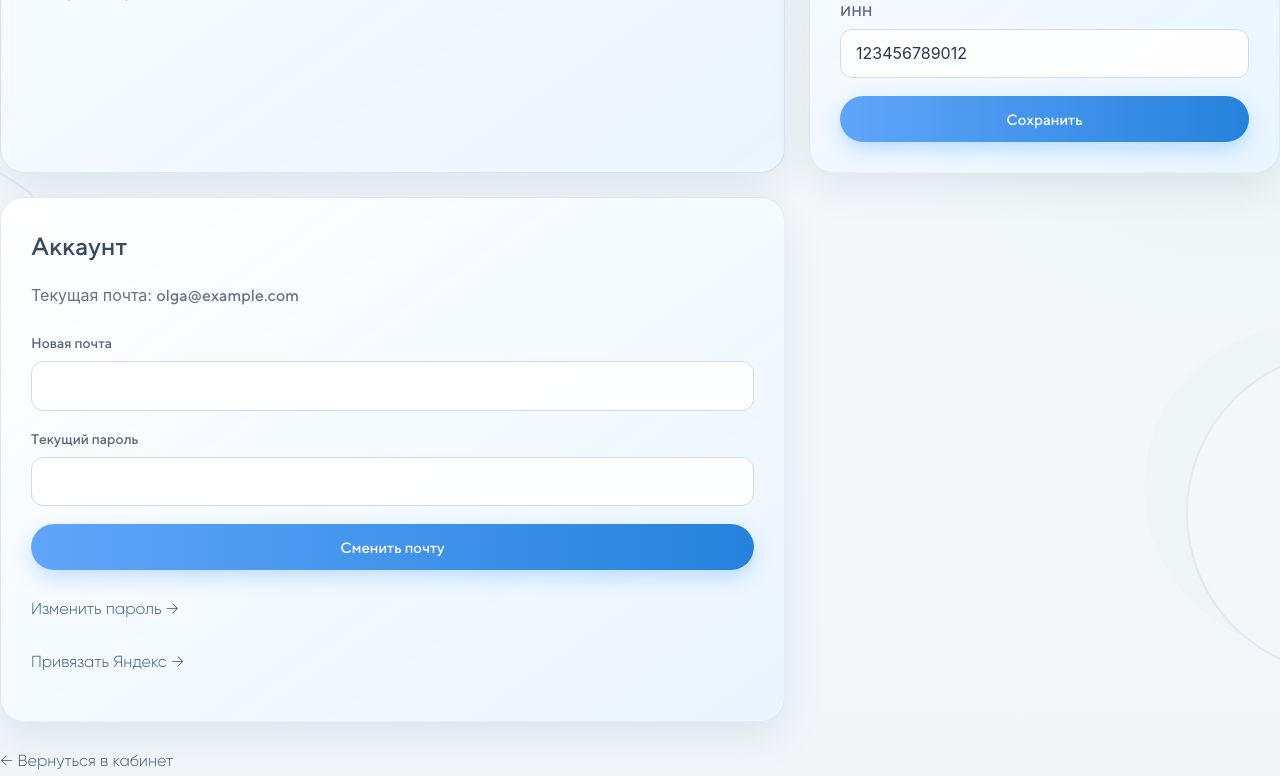
it: ProfilePage › shows why the e-mail change was refused
(page scrolled)
In the field labelled "Новая почта": (392, 386) [31,361,754,411], type "new@example.com"
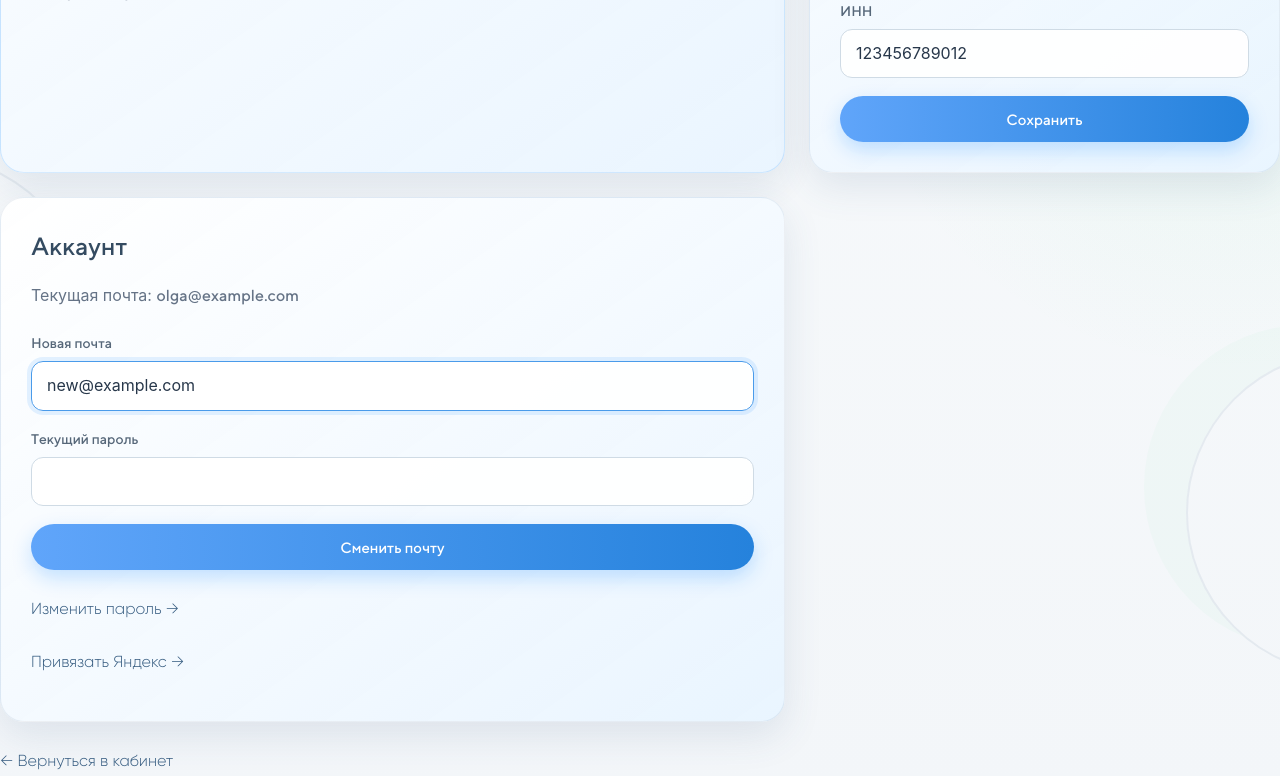
In the password field labelled "Текущий пароль": (392, 482) [31,457,754,506], type "wrong"
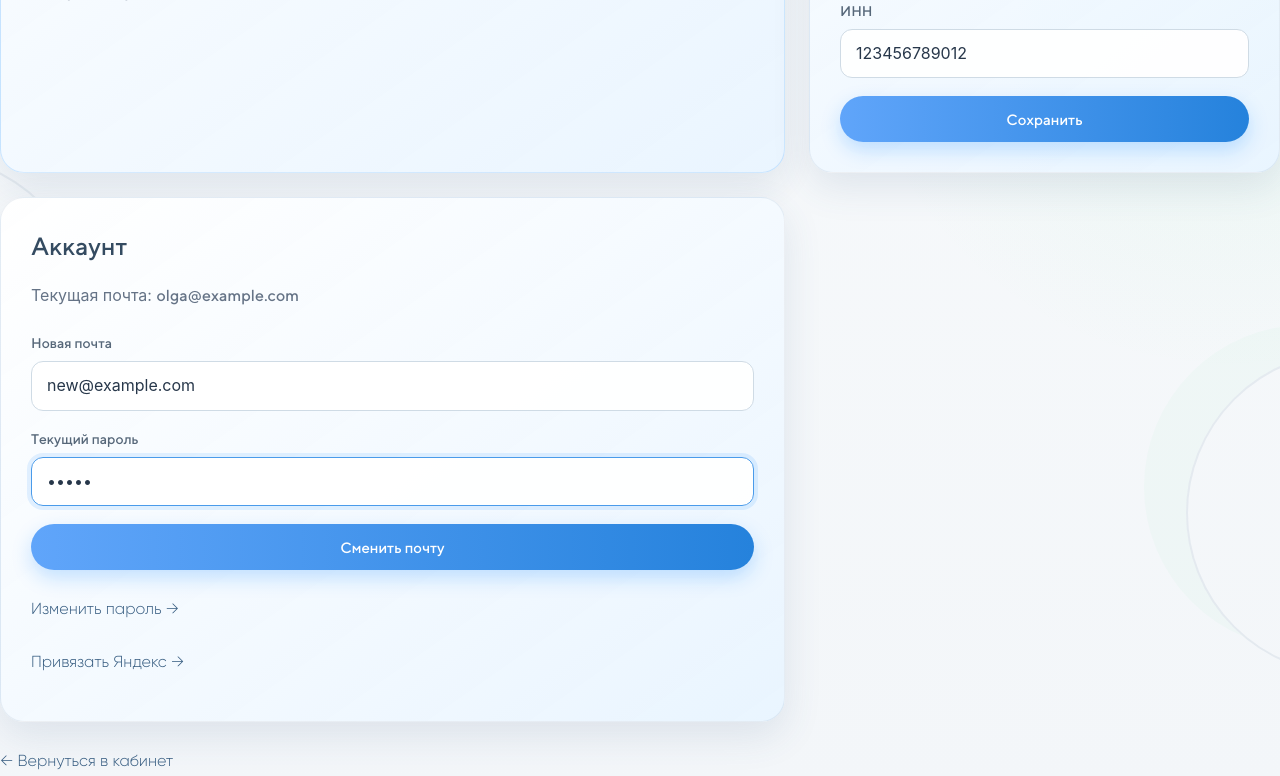
Click the button "Сменить почту": (392, 547) [31,524,754,570]
(page scrolled)
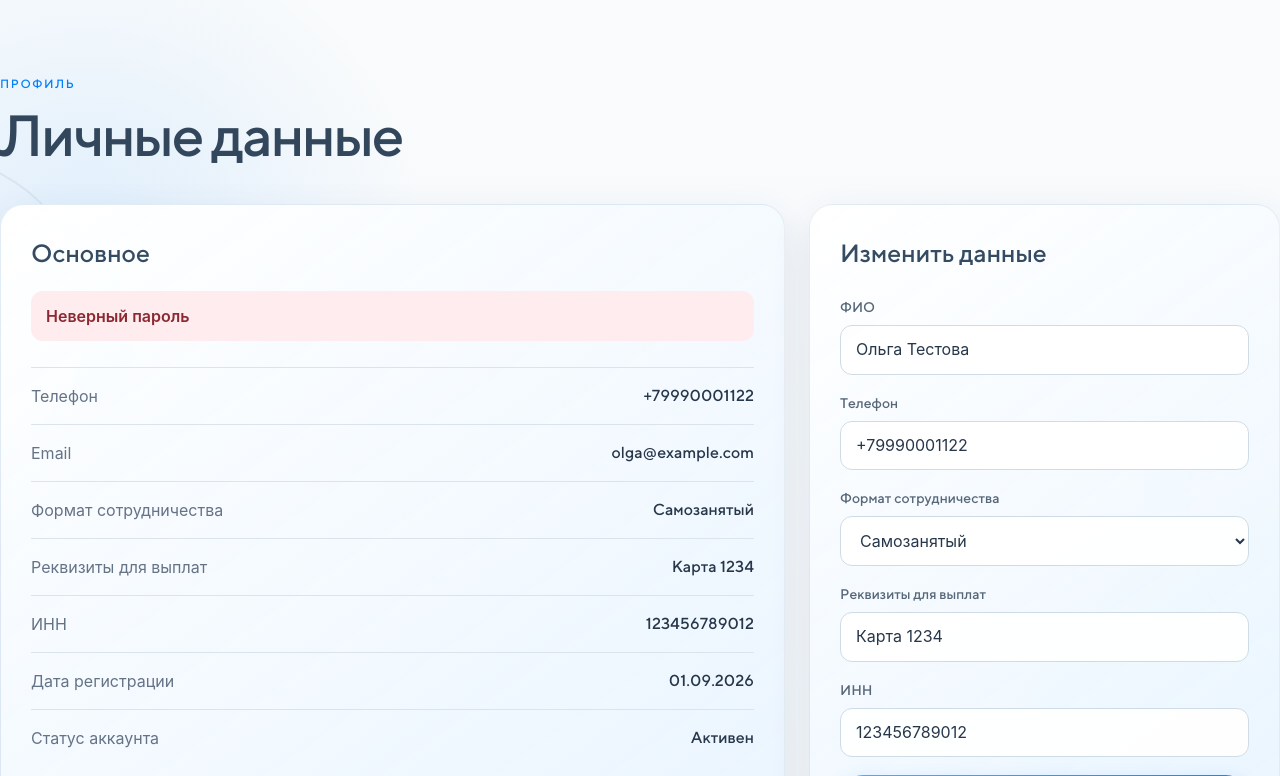
Check: the message reads "Неверный пароль", box [46,306,190,326]
